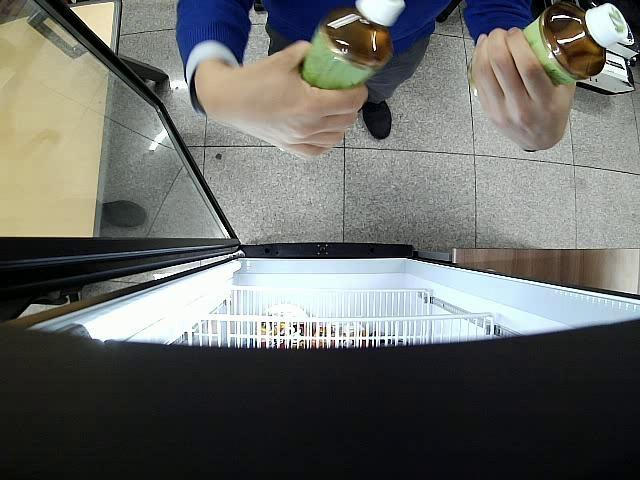19_17cha: (302, 0, 404, 88), (525, 3, 630, 84)
